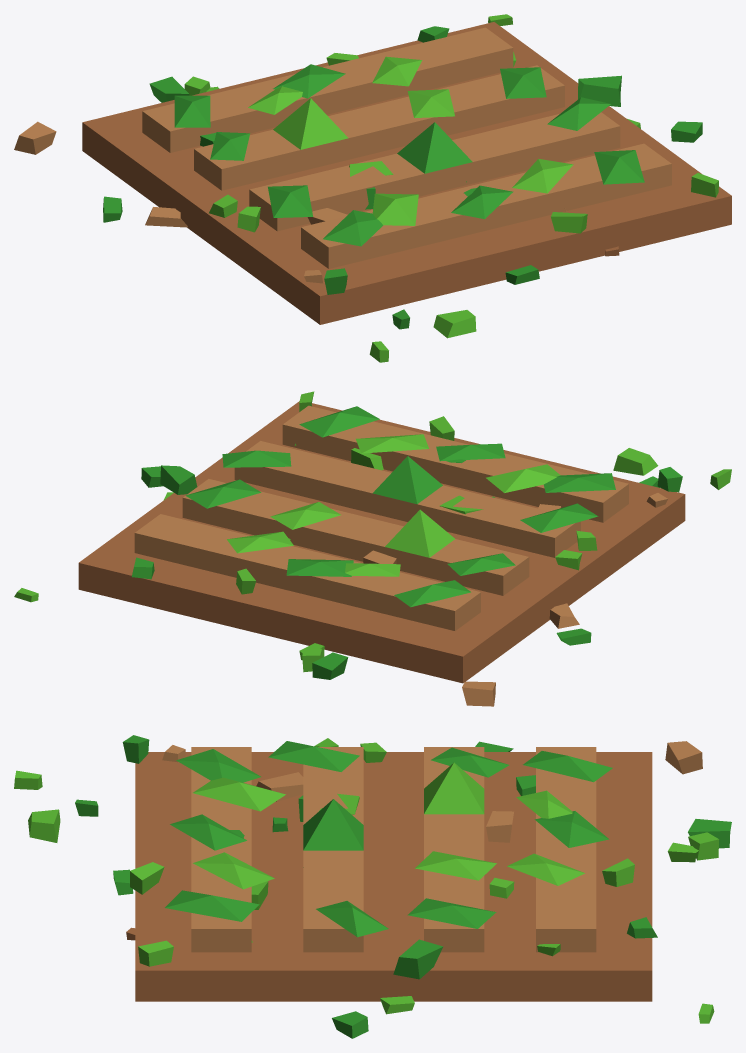
The model's file is field_t1_v2_dmg2.glb.
3 views of the same model, one above another, from view 1: azimuth 30°, elevation 25°; view 2: azimuth 150°, elevation 25°; view 3: azimuth 270°, elevation 25° (orthographic). The views are drawn at different scales.
Parts seen in each view (by area): view 1: field_t1_v2_dmg2; view 2: field_t1_v2_dmg2; view 3: field_t1_v2_dmg2.
Boxes of the visible parts, x1,y1,x2,y2 form: field_t1_v2_dmg2: [14, 14, 731, 362]; field_t1_v2_dmg2: [14, 391, 731, 706]; field_t1_v2_dmg2: [14, 735, 731, 1038].
Size of the model in its own units: 0.787 by 0.12 by 0.8332.
Materials: 1 (1 with a texture image).
